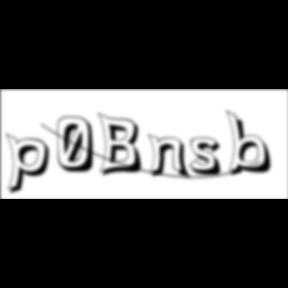0: (57, 115, 102, 174)
B: (98, 111, 148, 179)
b: (226, 109, 278, 179)
n: (148, 132, 194, 181)
p: (6, 132, 56, 198)
s: (189, 137, 228, 179)
